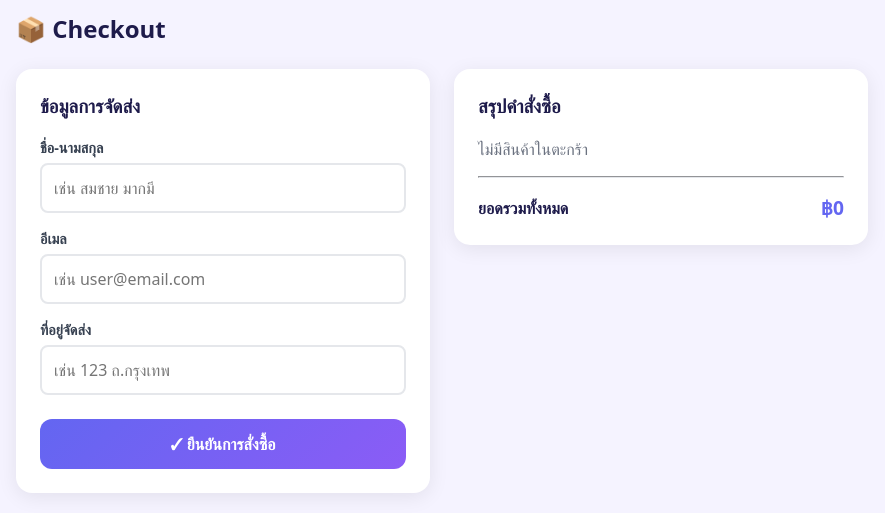
กรอกครบแล้ว submit → แสดงหน้า success
Step 1. Type "Kittisak" into the field with test id "input-name" → point(223, 188), box x1=40 y1=163 x2=406 y2=213
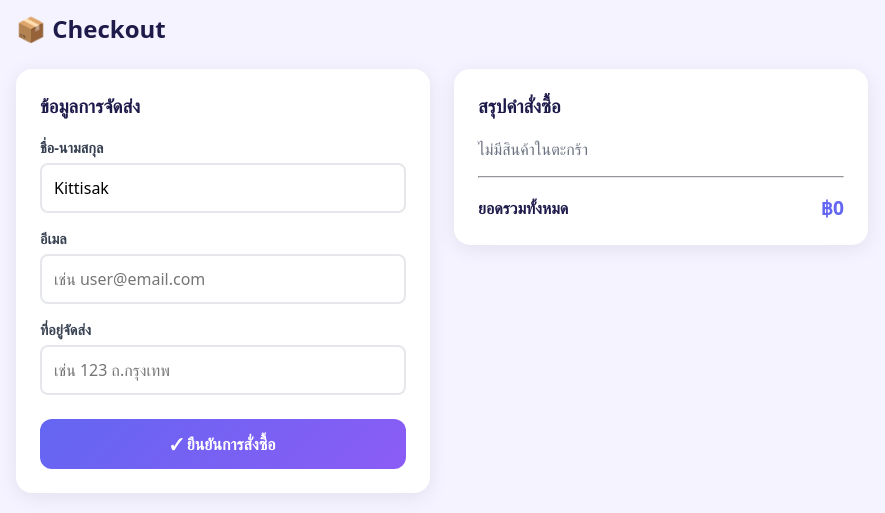
Step 2. Type "gas@email.com" into the field with test id "input-email" → point(223, 279), box x1=40 y1=254 x2=406 y2=304
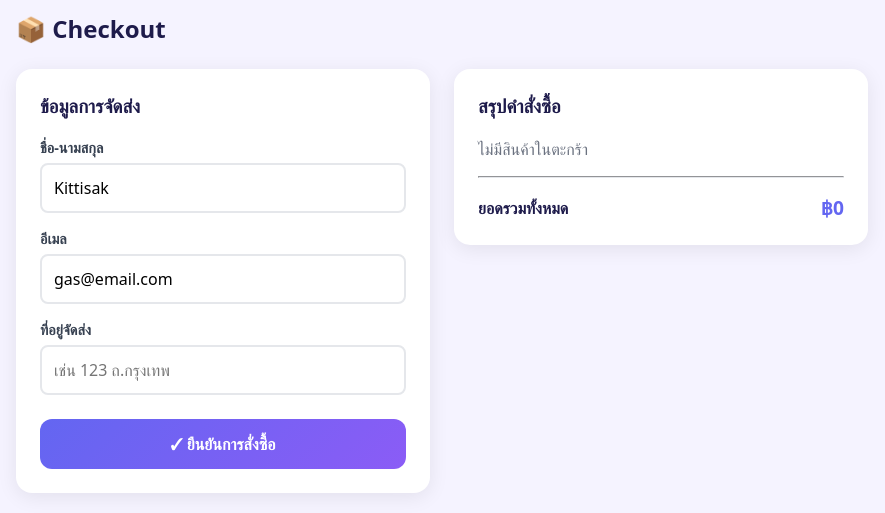
Step 3. Type "123 Phitsanulok" into the field with test id "input-address" → point(223, 370), box x1=40 y1=345 x2=406 y2=395
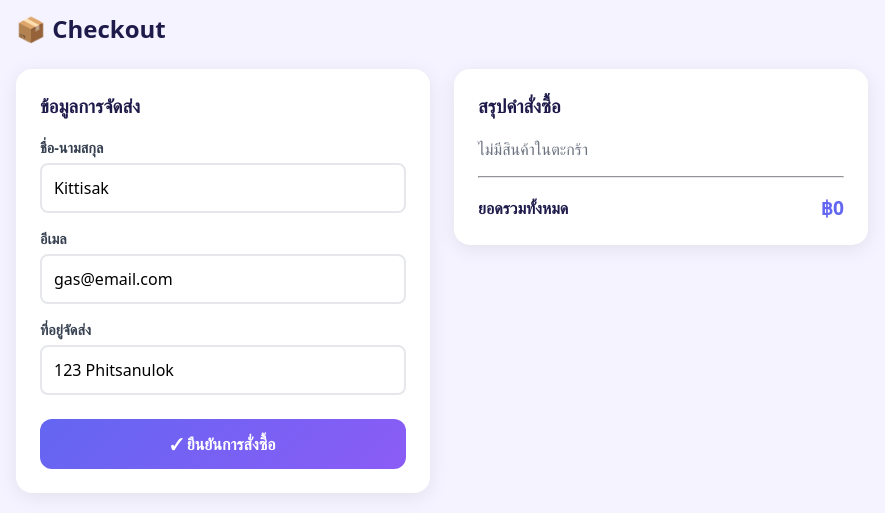
Step 4. Click the button with test id "submit-order" → point(223, 444), box x1=40 y1=419 x2=406 y2=469
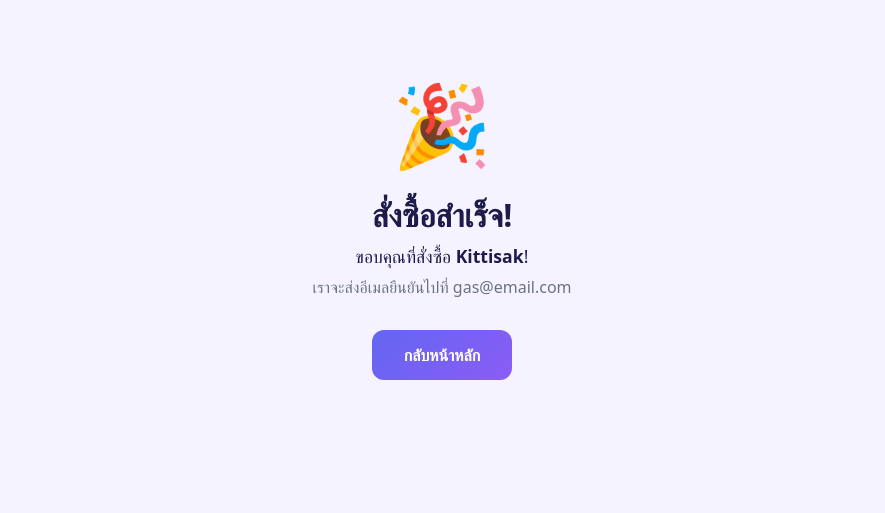
Check: the heading "สั่งซื้อสำเร็จ!" is shown, box x1=372 y1=193 x2=512 y2=236
